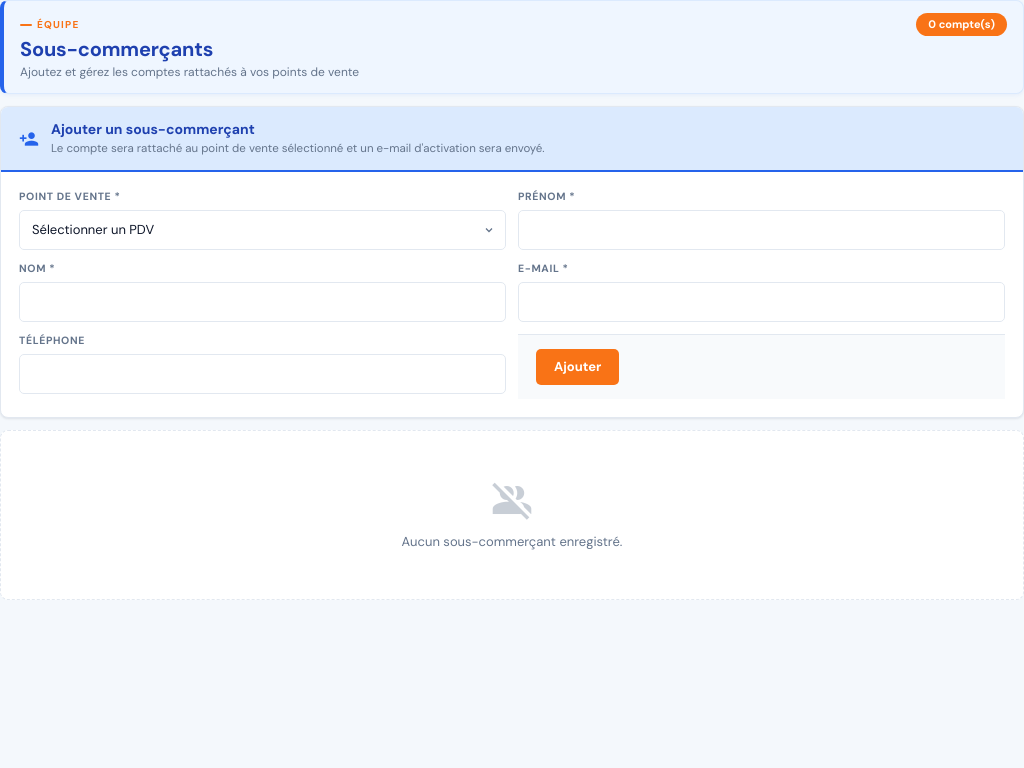
Test: CommercantSubCommercantsPage › cree un sous-commercant avec un PDV valide
Select "PDV1" in the dropdown labelled "Point de vente *" at coordinates (262, 230), box [19, 210, 506, 250]
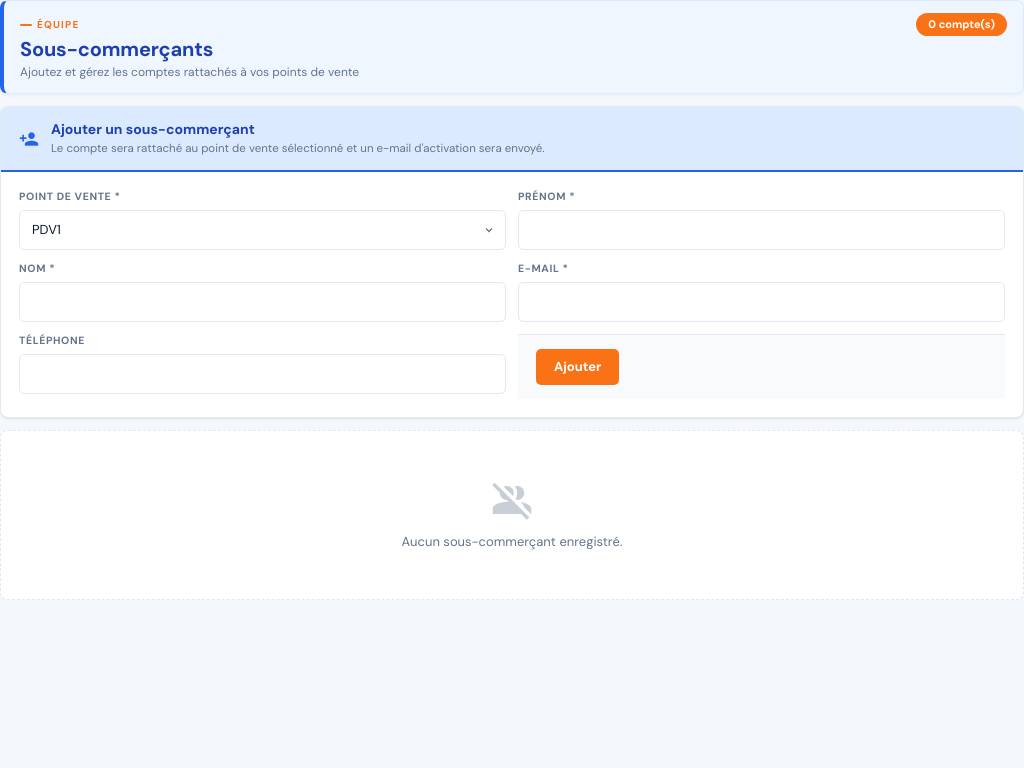
Type "Jane" into the field labelled "Prénom *" at coordinates (762, 230), box [518, 210, 1005, 250]
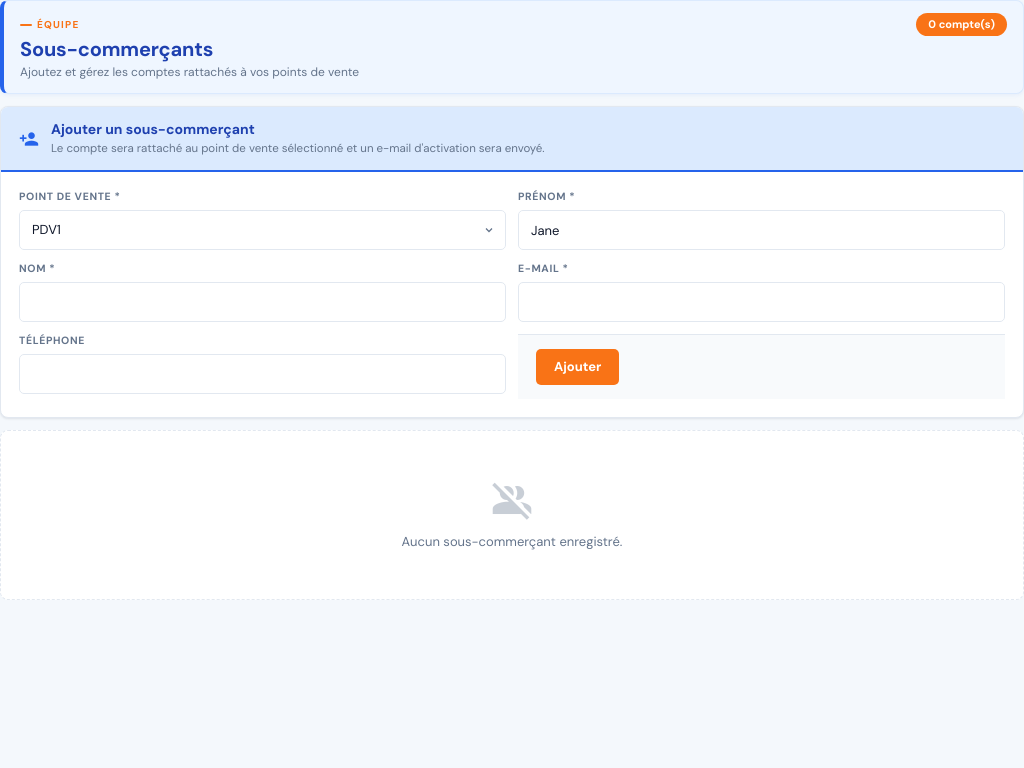
Type "Doe" into the field labelled "Nom *" at coordinates (262, 302), box [19, 282, 506, 322]
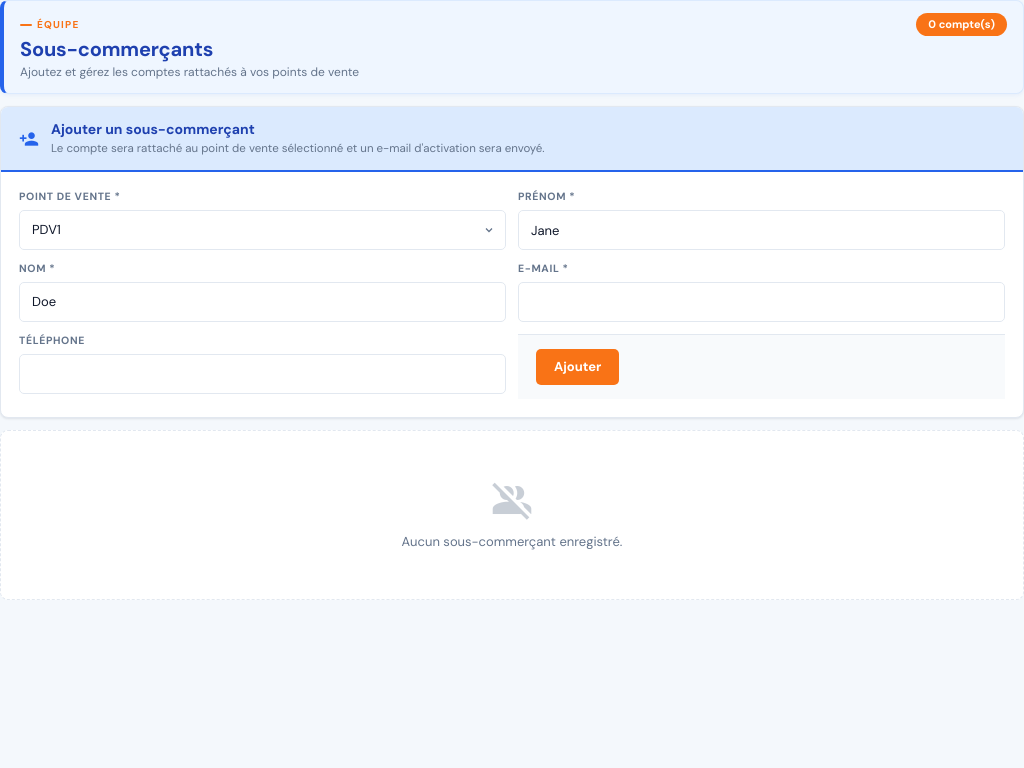
Type "jane@doe.com" into the field labelled "E-mail *" at coordinates (762, 302), box [518, 282, 1005, 322]
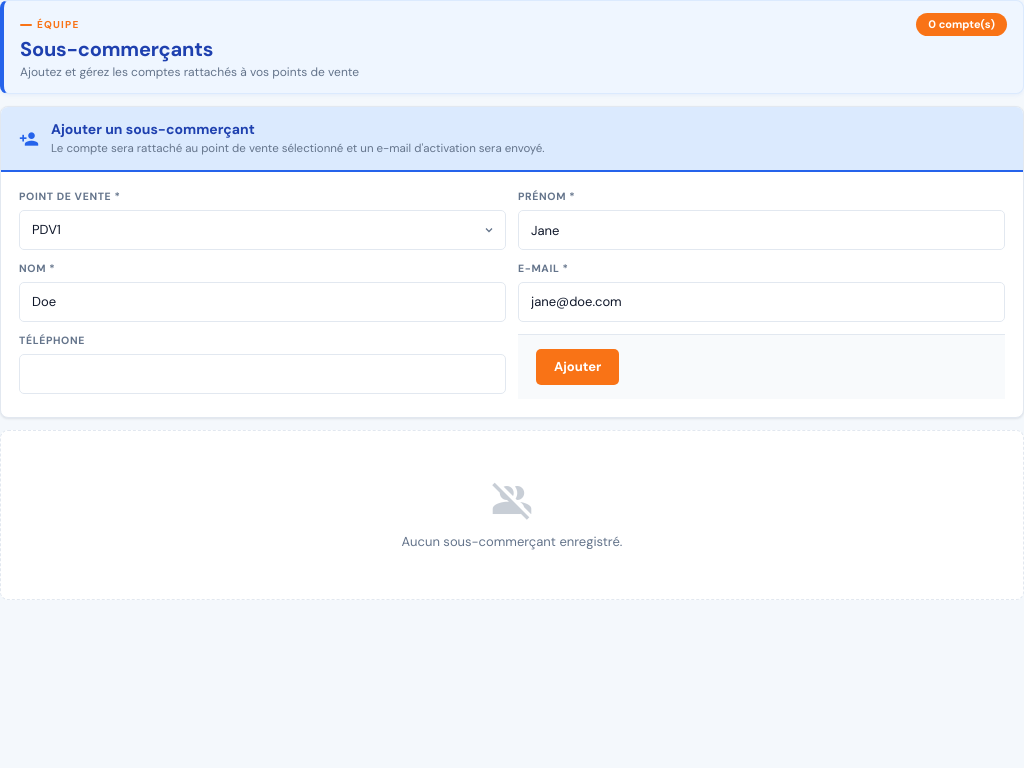
Click the button "Ajouter" at coordinates (578, 367), box [536, 349, 619, 385]
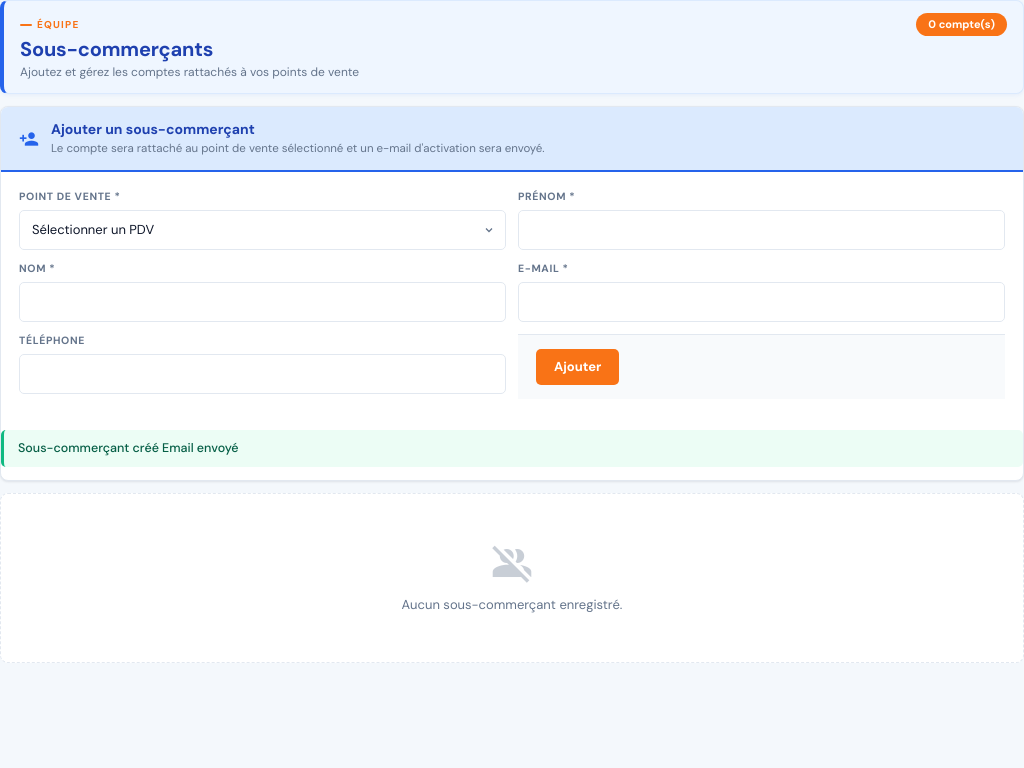
Expected: the text "Sous-commerçant créé Email envoyé" is shown, [1, 430, 1023, 467]
